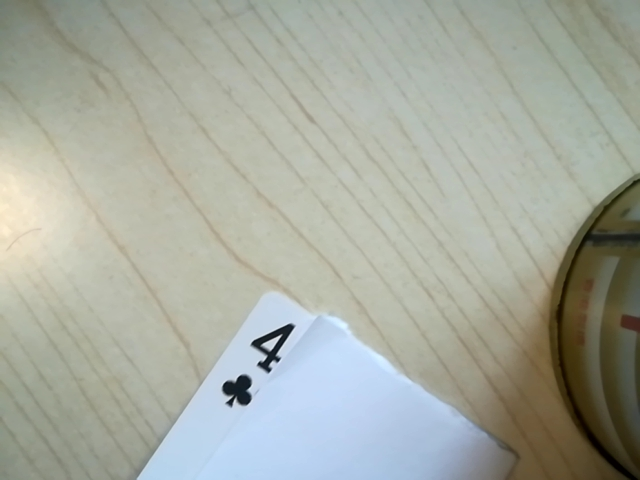mh 4: (208, 313, 310, 416)
